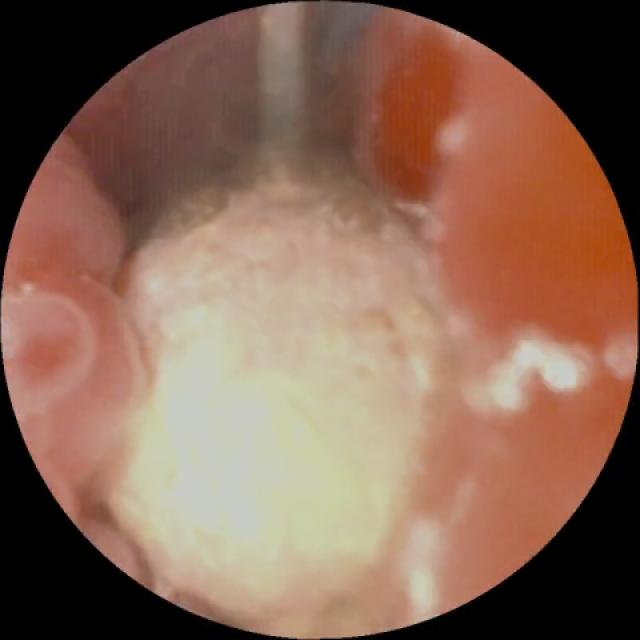stone: (108, 154, 439, 613)
tissue: (19, 20, 619, 621)
